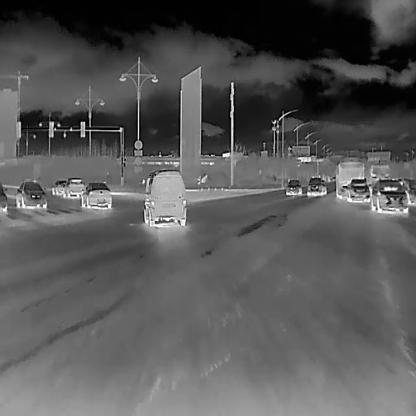car: (142, 167, 186, 225), (370, 178, 407, 210), (336, 160, 364, 198), (15, 180, 47, 207), (81, 182, 111, 207), (349, 177, 370, 202), (65, 175, 83, 195), (307, 176, 325, 195), (286, 179, 300, 195), (52, 180, 65, 194)
